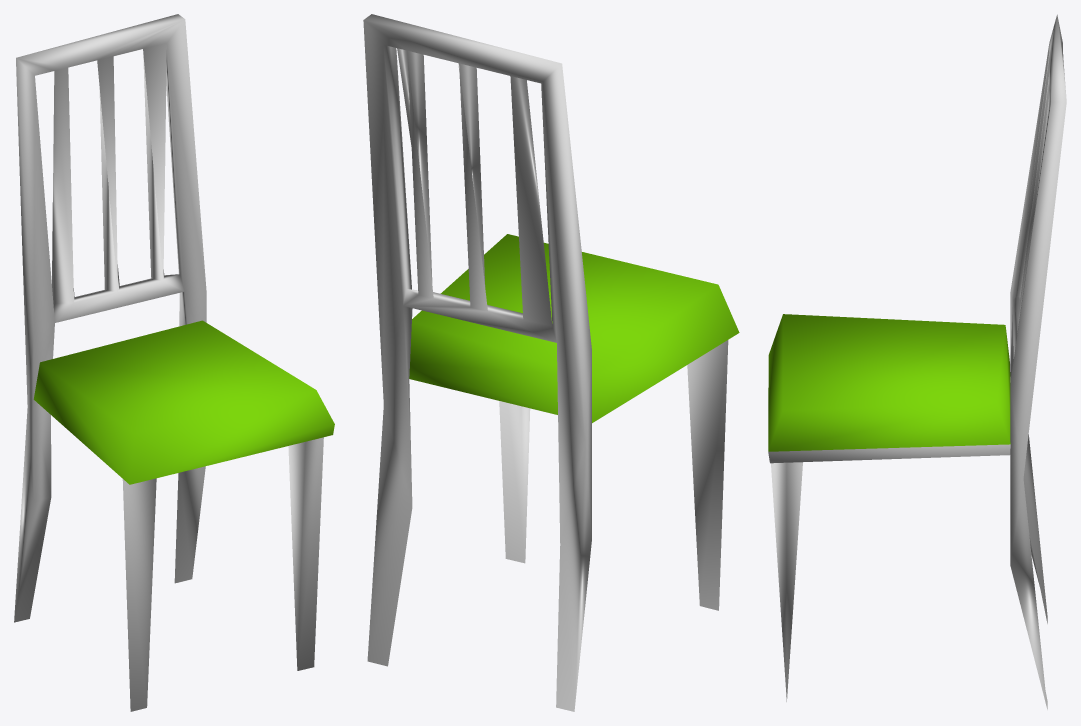
File: Cushioned Char 02_COLLIDER.fbx
3 views of the same model, side by side, from view 1: azimuth 30°, elevation 25°; view 2: azimuth 150°, elevation 25°; view 3: azimuth 270°, elevation 25° (orthographic). The views are drawn at different scales.
Visible parts, largest first — view 1: Cushioned_Chair_02_COLLIDER; view 2: Cushioned_Chair_02_COLLIDER; view 3: Cushioned_Chair_02_COLLIDER.
Part boxes in pixels (<box>): Cushioned_Chair_02_COLLIDER: <box>14,14,334,711</box>; Cushioned_Chair_02_COLLIDER: <box>363,14,739,711</box>; Cushioned_Chair_02_COLLIDER: <box>768,14,1066,709</box>.
Bounding box in the file's own units: 57.44 × 150 × 66.93.
